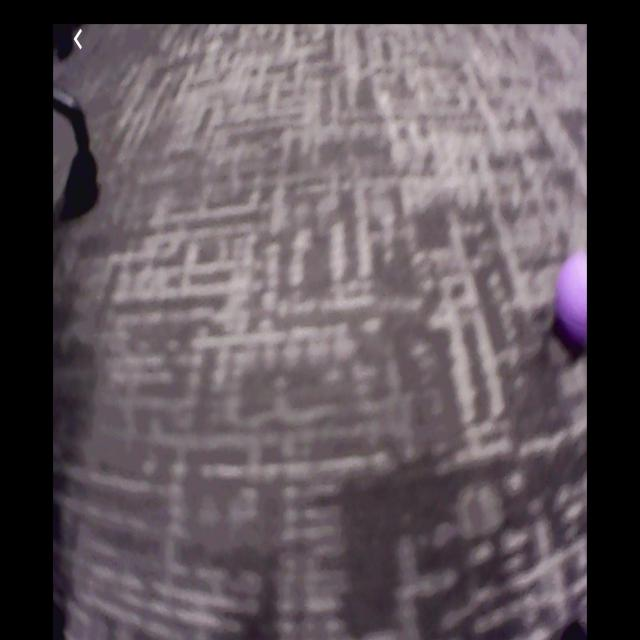ball: (557, 256, 589, 349)
